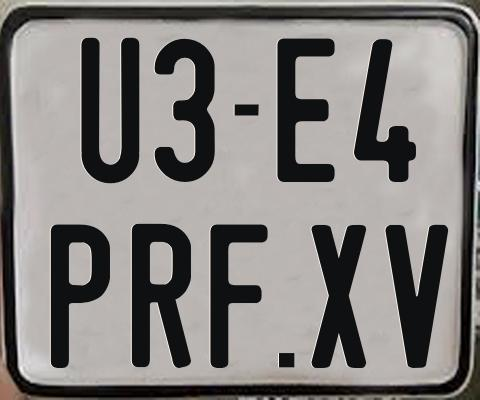3: (154, 37, 215, 182)
4: (351, 38, 416, 183)
E: (276, 36, 337, 180)
F: (207, 221, 269, 366)
P: (51, 224, 113, 369)
R: (131, 224, 194, 372)
U: (79, 36, 142, 185)
V: (383, 222, 447, 366)
X: (311, 223, 366, 369)
